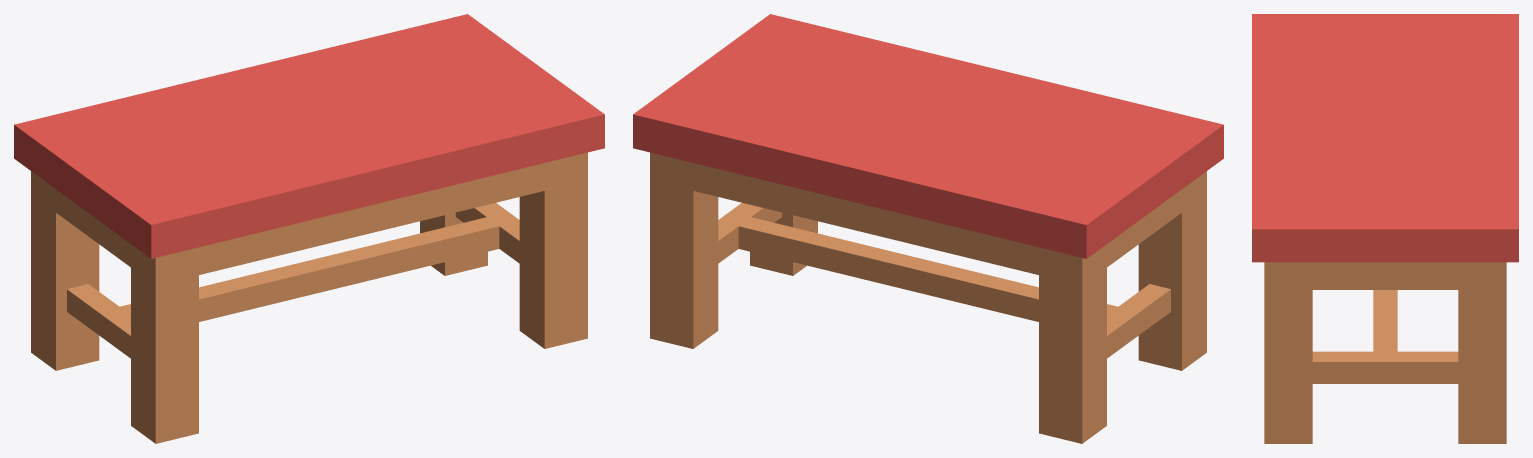
Rendered from benchCushionLow.glb.
3 views of the same model, side by side, from view 1: azimuth 30°, elevation 25°; view 2: azimuth 150°, elevation 25°; view 3: azimuth 270°, elevation 25° (orthographic). The views are drawn at different scales.
Visible parts, largest first — view 1: benchCushionLow; view 2: benchCushionLow; view 3: benchCushionLow.
Part boxes in pixels (bbox=[...]): benchCushionLow: bbox=[14, 14, 604, 443]; benchCushionLow: bbox=[633, 14, 1223, 443]; benchCushionLow: bbox=[1252, 14, 1518, 443].
Size of the model in its own units: 0.8827 by 0.4203 by 0.4624.
